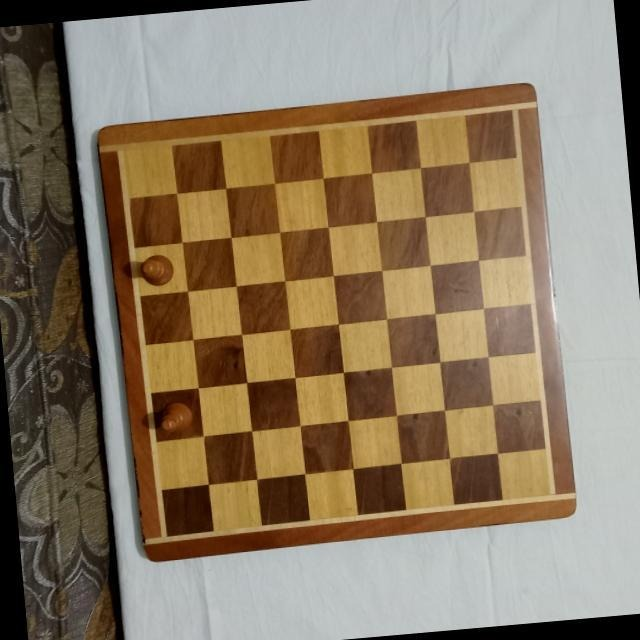white-pawn: (151, 400, 192, 435), (136, 253, 175, 289)
